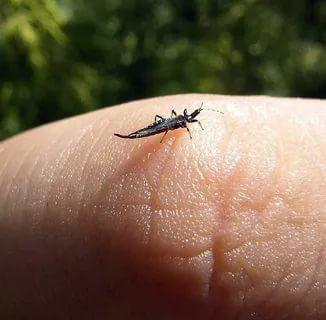tiny_pests: (106, 90, 226, 159)
